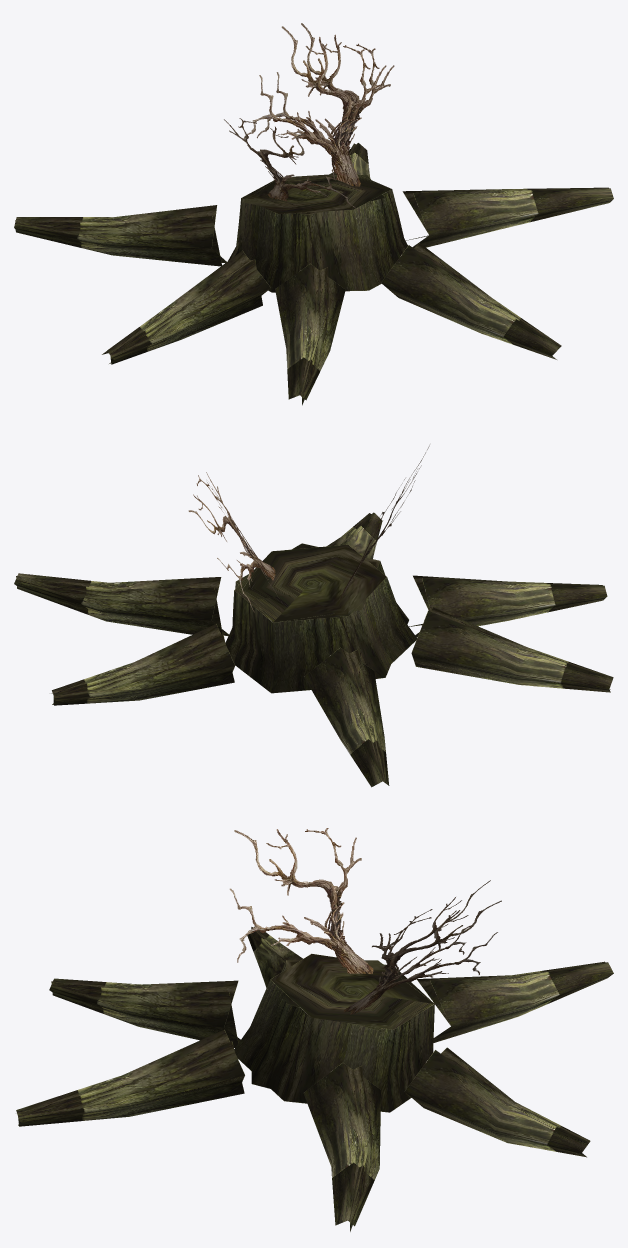
The model's file is far.glb.
3 renders of one model, top to bottom at view 1: azimuth 30°, elevation 25°; view 2: azimuth 150°, elevation 25°; view 3: azimuth 270°, elevation 25°, orthographic. The views are drawn at different scales.
Parts seen in each view (by area): view 1: lod1, lod2; view 2: lod1, lod2; view 3: lod1, lod2.
Part boxes in pixels (x1,y1,x2,y2): lod1: (14,23,613,400); lod2: (15,26,608,405); lod1: (14,445,612,787); lod2: (16,482,613,786); lod1: (16,828,613,1226); lod2: (17,880,605,1231).
Bounding box in the file's own units: 8.49 × 3.09 × 7.32.
2 materials, 2 textured.
